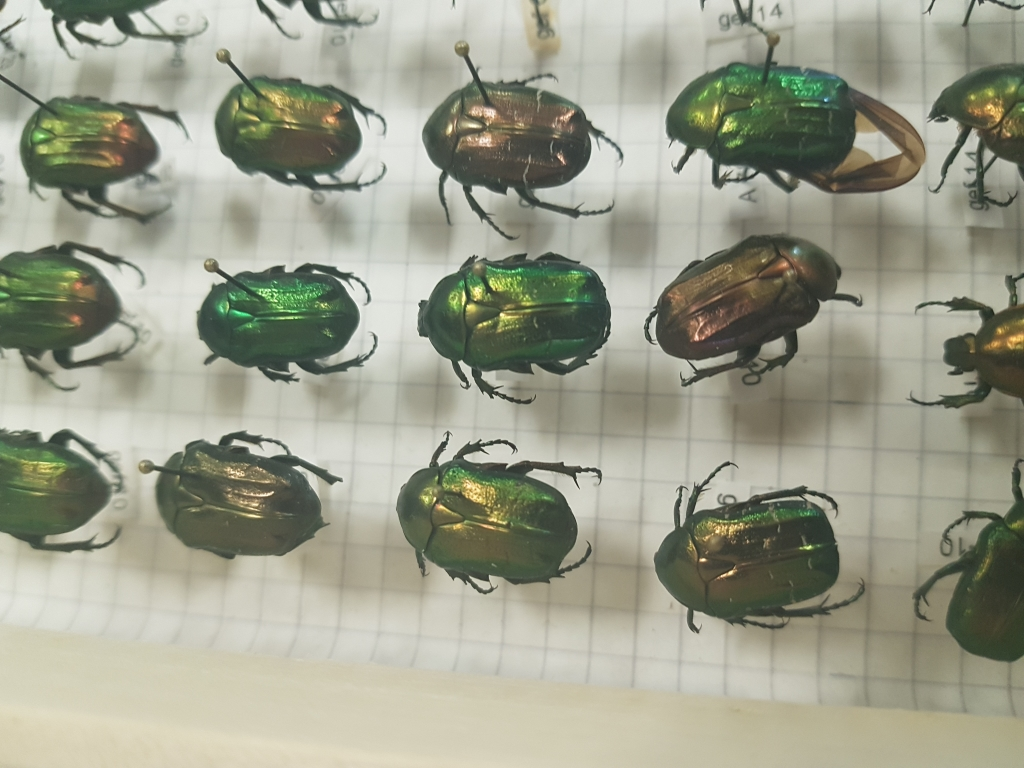Cetonia_aurata: (648, 445, 875, 648), (636, 212, 852, 411), (402, 248, 609, 408), (189, 255, 387, 386)
